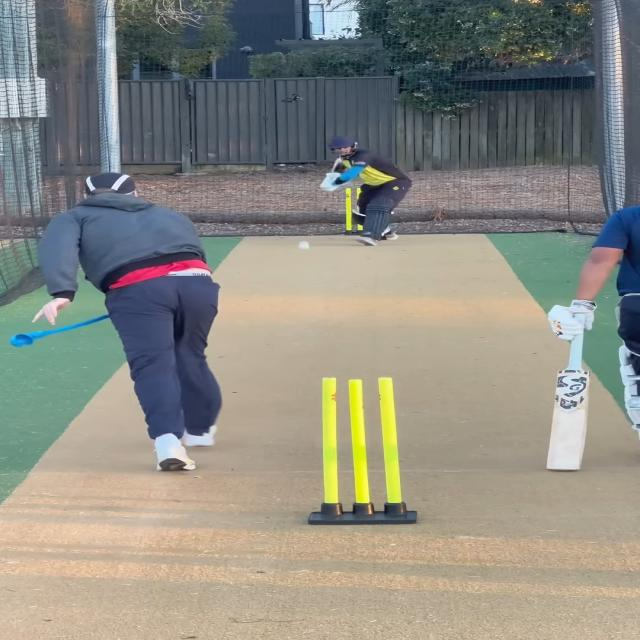ball: (295, 240, 314, 250)
stump: (305, 375, 421, 527)
